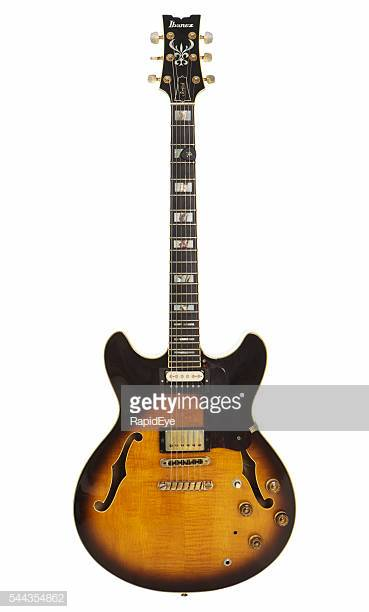ElectricGuitar: (75, 6, 293, 592)
